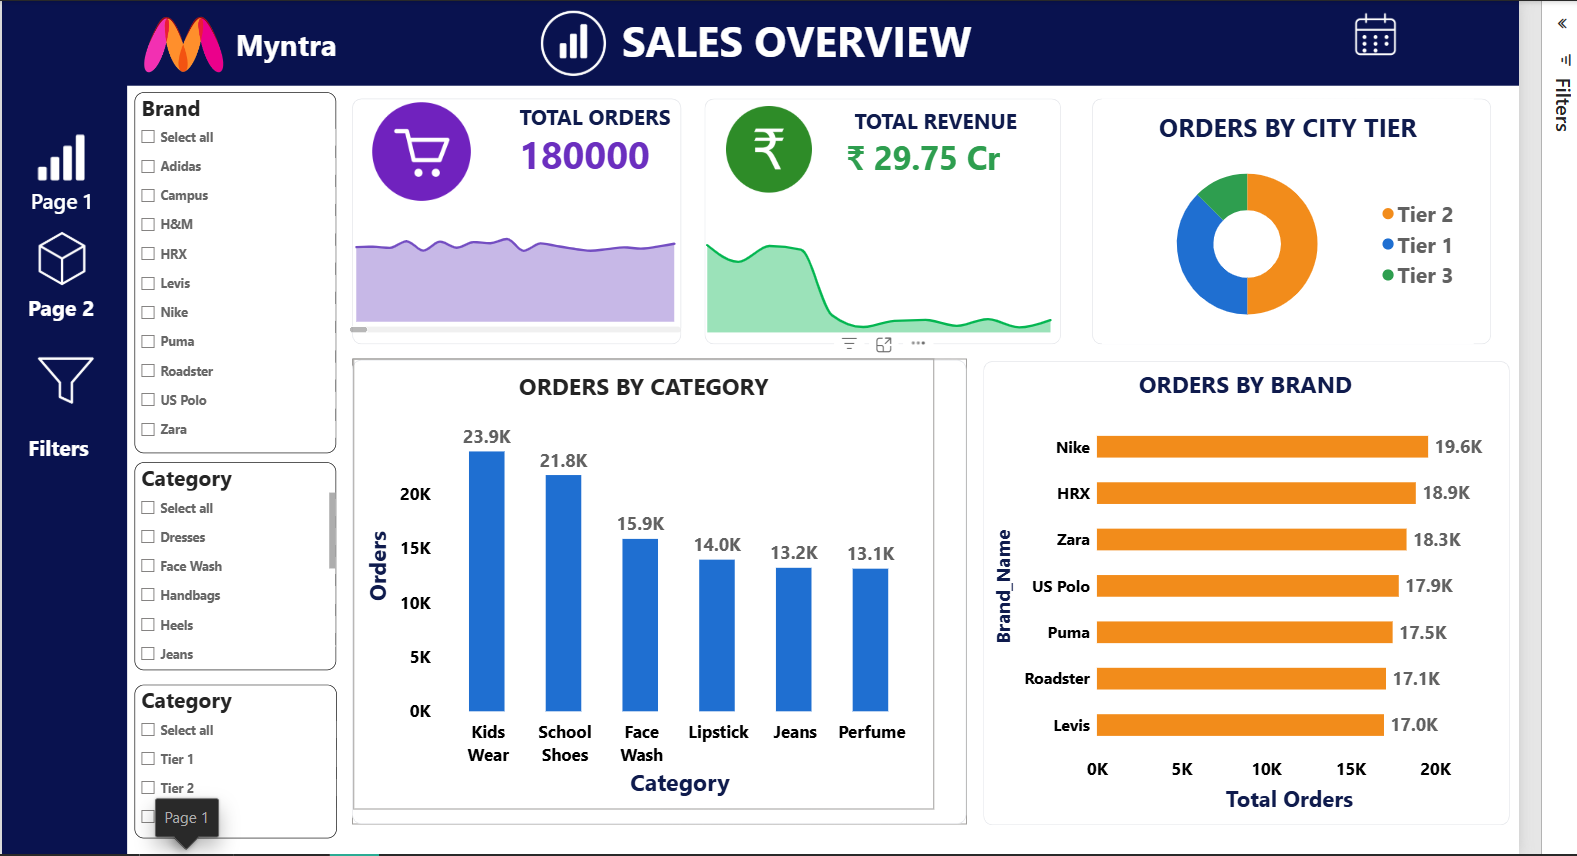

What the dashboard file says about the page in this screenshot:
{"tool":"powerbi","page":{"name":"Page 1","canvas":[1920,1080],"ordinal":0},"visuals":[{"type":"shape","box":[0,0,1920,107.5],"z":0,"group":"g10"},{"type":"textbox","box":[784.1,13.6,456.6,91.7],"z":0,"group":"g1"},{"type":"pageNavigator","box":[276.9,233.7,149.2,257.1],"z":0},{"type":"shape","box":[443.5,455,777.6,587.5],"z":0,"group":"g5"},{"type":"shape","box":[1240.3,455,666.2,587.5],"z":0,"group":"g7"},{"type":"shape","box":[0,0,158.3,1080],"z":1000,"group":"g9"},{"type":"image","box":[636.7,10,170.8,88.1],"z":1000,"group":"g1"},{"type":"shape","box":[443.5,122.9,416.6,311],"z":1000},{"type":"clusteredBarChart","title":"ORDERS BY BRAND","fields":{"Category":["myntra_orders_master.Brand_Name"],"Y":["MeasuresTable.Total Orders"]},"box":[1237.8,449.2,670.1,593.3],"z":1000,"group":"g7"},{"type":"clusteredColumnChart","title":"ORDERS BY CATEGORY","fields":{"Category":["myntra_orders_master.Category"],"Y":["MeasuresTable.Total Orders"]},"box":[445.4,453.1,735.4,570.2],"z":1000,"group":"g5"},{"type":"group","id":"g1","title":"Group 1","box":[636.7,10,603.3,95],"z":2000,"group":"g10"},{"type":"image","box":[141.1,16.7,178.3,75],"z":2000,"group":"g2"},{"type":"shape","box":[889,122.9,451.2,311],"z":2000},{"type":"image","box":[1693.4,9.6,88.3,67.2],"z":3000,"group":"g10"},{"type":"textbox","box":[654.7,128.6,205.4,42.2],"z":3000},{"type":"image","box":[2.7,285.3,145.6,82.7],"z":3000,"group":"g3"},{"type":"group","id":"g2","title":"Group 3","box":[141.1,16.7,303.1,75],"z":4000,"group":"g10"},{"type":"cardVisual","fields":{"Data":["MeasuresTable.Revenue Display"]},"box":[1052.2,161.3,257.3,71],"z":4000},{"type":"image","box":[17.9,161.7,115.3,79.7],"z":4000,"group":"g3"},{"type":"group","id":"g3","title":"Group 4","box":[1.7,161.7,158.3,435],"z":5000,"group":"g9"},{"type":"cardVisual","fields":{"Data":["MeasuresTable.Total Orders"]},"box":[637.4,167,199.7,49.9],"z":5000},{"type":"image","box":[1.7,433.8,158.3,88.5],"z":5000,"group":"g4"},{"type":"slicer","fields":{"Values":["myntra_orders_master.Brand_Name"]},"box":[168.3,115,255,456.7],"z":6000,"group":"g8"},{"type":"textbox","box":[1079,132.5,230.4,44.2],"z":6000},{"type":"image","box":[889,132.5,163.2,109.4],"z":7000},{"type":"textbox","box":[34,547.4,95,49.8],"z":7000,"group":"g4"},{"type":"slicer","fields":{"Values":["myntra_orders_master.Category"]},"box":[168.3,583.3,255,263.3],"z":7000,"group":"g8"},{"type":"textbox","box":[295.9,28.9,148.3,60],"z":8000,"group":"g2"},{"type":"image","box":[443.5,128.6,176.6,124.8],"z":8000},{"type":"group","id":"g4","title":"Group 2","box":[1.7,433.8,158.3,163.3],"z":8005,"group":"g3"},{"type":"group","id":"g5","title":"Group 5","box":[443.5,453.1,777.6,589.4],"z":9000},{"type":"group","id":"g6","title":"Group 6","box":[1378.6,122.9,505,311],"z":10000},{"type":"group","id":"g7","title":"Group 7","box":[1237.8,449.2,670.1,593.4],"z":11000},{"type":"shape","box":[1378.6,122.9,505,311],"z":12000,"group":"g6"},{"type":"areaChart","fields":{"Category":["DimDate.Date.Variation.Date Hierarchy.Month","DimDate.Date.Variation.Date Hierarchy.Day"],"Y":["Sum(myntra_orders_master.Quantity)"]},"box":[424.3,258.9,451.2,176.2],"z":12000},{"type":"areaChart","fields":{"Category":["DimDate.Date.Variation.Date Hierarchy.Month"],"Y":["MeasuresTable.Total Revenue"]},"box":[861.1,260.7,498,174.4],"z":13000},{"type":"group","id":"g8","title":"Group 8","box":[168.3,115,256.2,943.1],"z":14000},{"type":"group","id":"g9","title":"Group 9","box":[0,0,160,1080.4],"z":15000,"group":"g11"},{"type":"group","id":"g10","title":"Group 10","box":[0,0,1920,107.5],"z":15000},{"type":"group","id":"g11","title":"Group 11","box":[0,0,160,1080.4],"z":16000},{"type":"pageNavigator","box":[18,190.6,115.1,262.5],"z":16001,"group":"g11"},{"type":"donutChart","title":"ORDERS BY CITY TIER","fields":{"Category":["myntra_orders_master.City_Tier"],"Y":["MeasuresTable.Total Orders"]},"box":[1392,122.9,470.4,311],"z":19000,"group":"g6"},{"type":"slicer","fields":{"Values":["myntra_orders_master.City_Tier"]},"box":[168.5,864,256,194.1],"z":22000,"group":"g8"}]}

Visuals, with their boxes on the page's 1920x1080 design canvas (x1, y1, x2, y2). These are canvas units, not pixel positions in the 1577x856 screenshot, which may show the page scaled, cropped or inside an application window:
shape: bbox(0, 0, 1920, 108)
textbox: bbox(784, 14, 1241, 105)
pageNavigator: bbox(277, 234, 426, 491)
shape: bbox(444, 455, 1221, 1042)
shape: bbox(1240, 455, 1906, 1042)
shape: bbox(0, 0, 158, 1080)
image: bbox(637, 10, 808, 98)
shape: bbox(444, 123, 860, 434)
"ORDERS BY BRAND" clusteredBarChart: bbox(1238, 449, 1908, 1042)
"ORDERS BY CATEGORY" clusteredColumnChart: bbox(445, 453, 1181, 1023)
"Group 1" group: bbox(637, 10, 1240, 105)
image: bbox(141, 17, 319, 92)
shape: bbox(889, 123, 1340, 434)
image: bbox(1693, 10, 1782, 77)
textbox: bbox(655, 129, 860, 171)
image: bbox(3, 285, 148, 368)
"Group 3" group: bbox(141, 17, 444, 92)
cardVisual - MeasuresTable.Revenue Display: bbox(1052, 161, 1310, 232)
image: bbox(18, 162, 133, 241)
"Group 4" group: bbox(2, 162, 160, 597)
cardVisual - MeasuresTable.Total Orders: bbox(637, 167, 837, 217)
image: bbox(2, 434, 160, 522)
slicer - myntra_orders_master.Brand_Name: bbox(168, 115, 423, 572)
textbox: bbox(1079, 132, 1309, 177)
image: bbox(889, 132, 1052, 242)
textbox: bbox(34, 547, 129, 597)
slicer - myntra_orders_master.Category: bbox(168, 583, 423, 847)
textbox: bbox(296, 29, 444, 89)
image: bbox(444, 129, 620, 253)
"Group 2" group: bbox(2, 434, 160, 597)
"Group 5" group: bbox(444, 453, 1221, 1042)
"Group 6" group: bbox(1379, 123, 1884, 434)
"Group 7" group: bbox(1238, 449, 1908, 1043)
shape: bbox(1379, 123, 1884, 434)
areaChart - DimDate.Date.Variation.Date Hierarchy.Month x DimDate.Date.Variation.Date Hierarchy.Day: bbox(424, 259, 876, 435)
areaChart - DimDate.Date.Variation.Date Hierarchy.Month x MeasuresTable.Total Revenue: bbox(861, 261, 1359, 435)
"Group 8" group: bbox(168, 115, 424, 1058)
"Group 9" group: bbox(0, 0, 160, 1080)
"Group 10" group: bbox(0, 0, 1920, 108)
"Group 11" group: bbox(0, 0, 160, 1080)
pageNavigator: bbox(18, 191, 133, 453)
"ORDERS BY CITY TIER" donutChart: bbox(1392, 123, 1862, 434)
slicer - myntra_orders_master.City_Tier: bbox(168, 864, 424, 1058)
